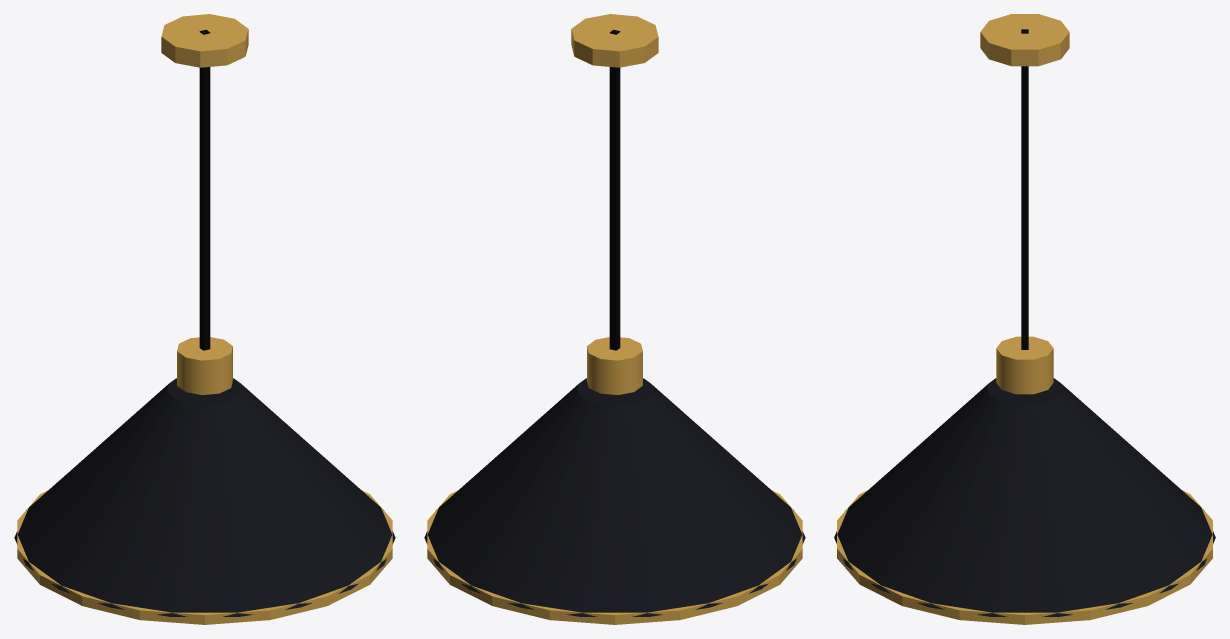
File: pendant_lamp.glb
3 views of the same model, side by side, from view 1: azimuth 30°, elevation 25°; view 2: azimuth 150°, elevation 25°; view 3: azimuth 270°, elevation 25° (orthographic).
Parts seen in each view (by area): view 1: pendant_lamp; view 2: pendant_lamp; view 3: pendant_lamp.
Boxes of the visible parts, <box> form: pendant_lamp: <box>14,14,395,624</box>; pendant_lamp: <box>424,14,805,624</box>; pendant_lamp: <box>834,14,1215,624</box>.
Size of the model in its own units: 0.6 by 0.89 by 0.6.
